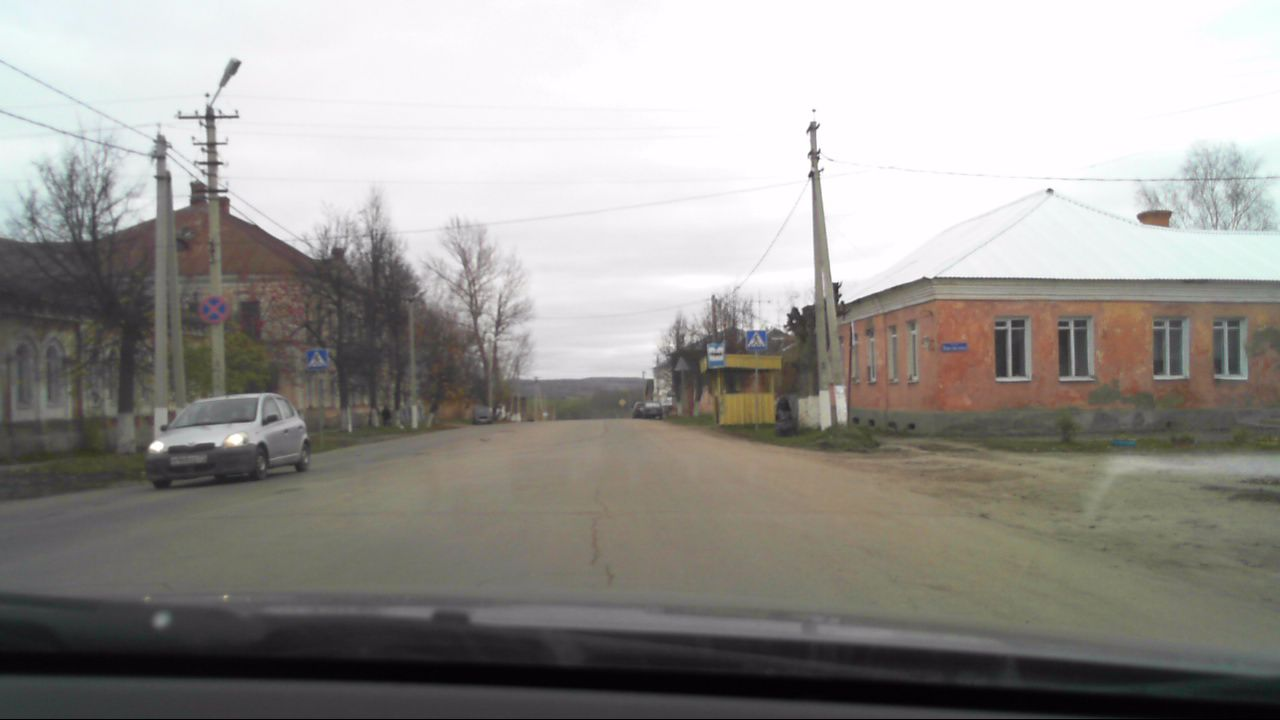No Parking: (199, 295, 228, 324)
